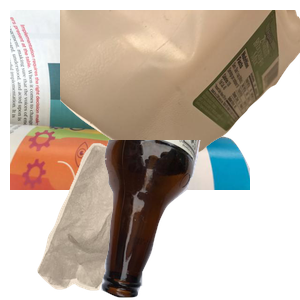glass: (99, 140, 300, 300)
paper: (10, 10, 250, 190)
plastic: (60, 10, 300, 160)
trash: (35, 140, 203, 300)
